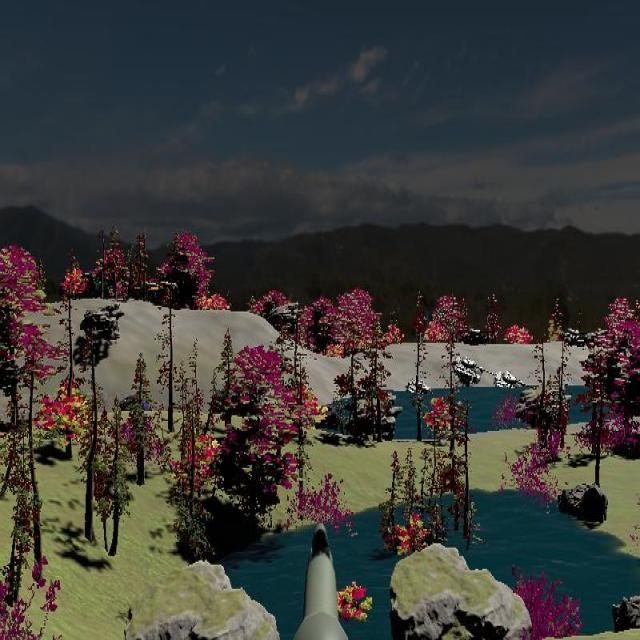Tank: (484, 368, 531, 393), (454, 353, 484, 385), (459, 325, 496, 346)
